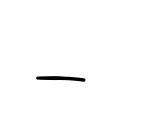minus: (36, 74, 85, 86)
